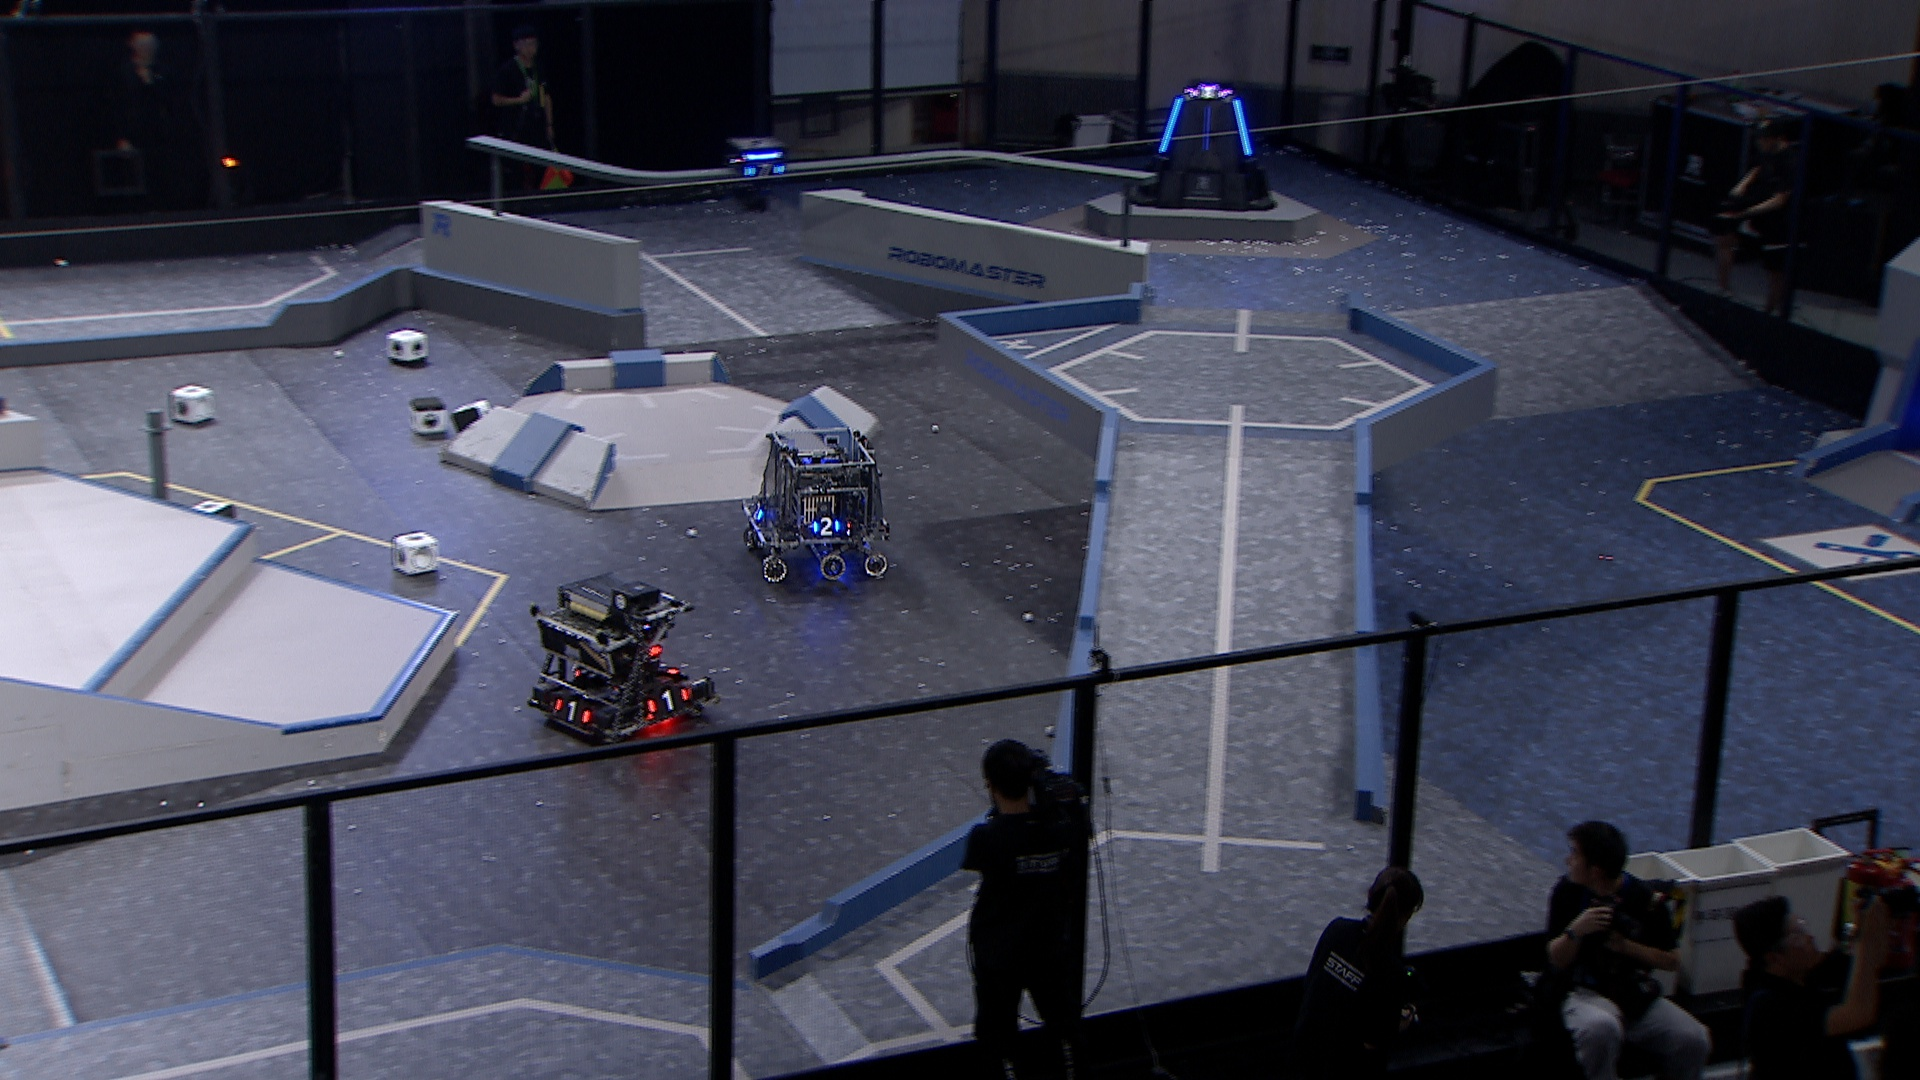armor: (1154, 95, 1188, 153), (646, 684, 694, 717), (1230, 98, 1253, 160), (553, 699, 596, 728), (808, 512, 844, 538), (740, 162, 787, 181), (646, 651, 680, 676), (746, 498, 767, 522)
base: (1120, 83, 1283, 214)
car: (527, 567, 717, 745), (740, 427, 893, 583)
ignore: (1187, 82, 1232, 102)
watcher: (727, 133, 793, 214)
